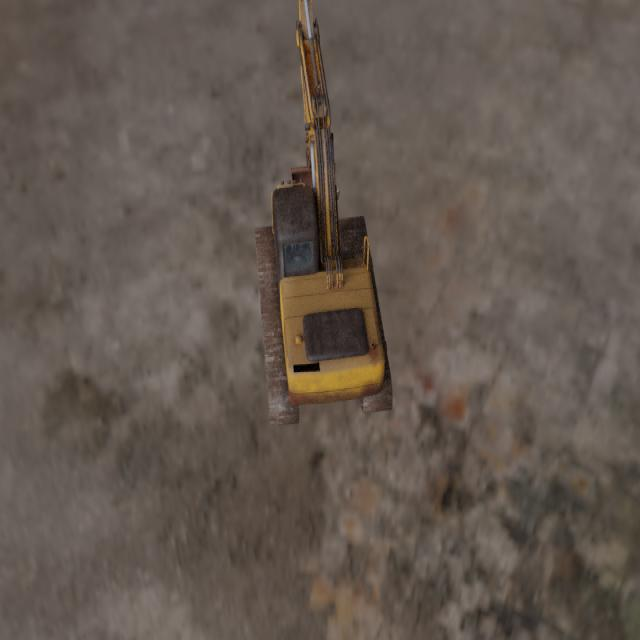excavator: (254, 0, 393, 428)
